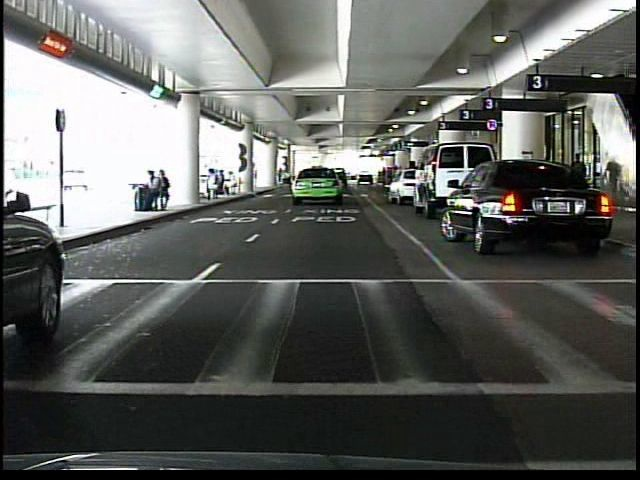person: (566, 149, 591, 212)
